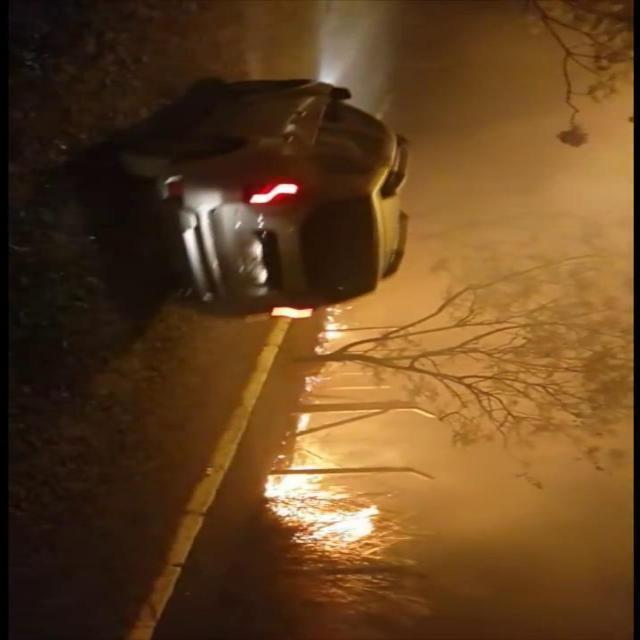Fire: (264, 456, 384, 550), (318, 314, 351, 338), (293, 413, 311, 435)
